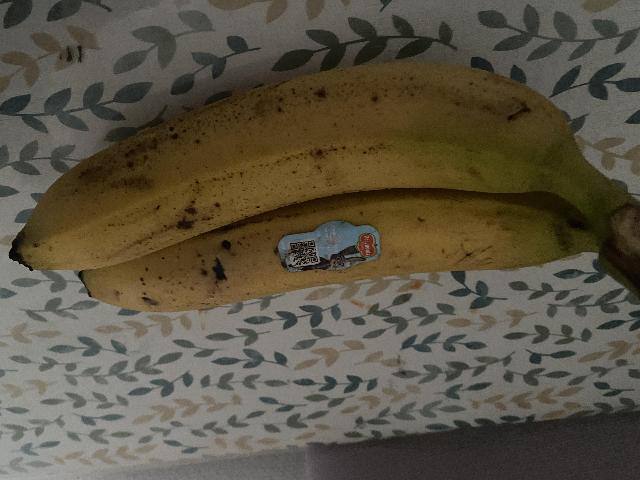Organik: (30, 67, 640, 338)
